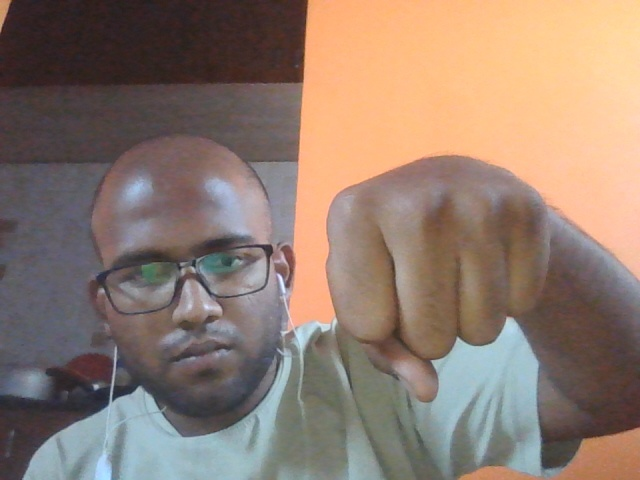yes: (284, 125, 599, 408)
